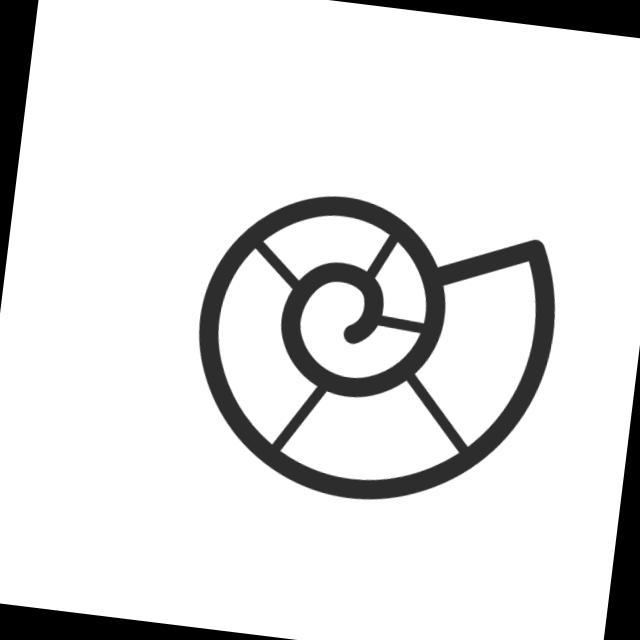fossil: (175, 174, 571, 524)
